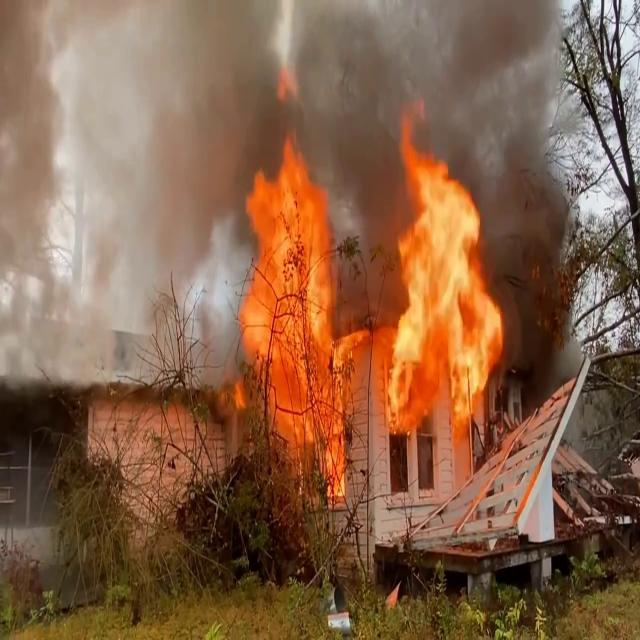Fire: (228, 130, 360, 488), (378, 132, 508, 440)
Smoke: (92, 0, 590, 220), (0, 0, 256, 393), (457, 0, 586, 372)
